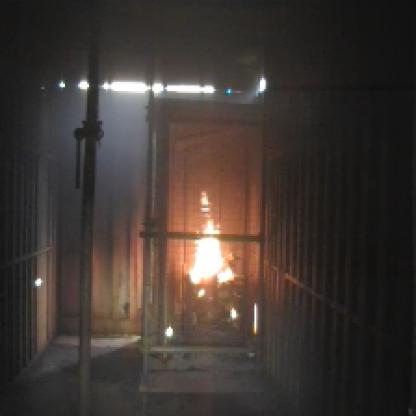Fire: (184, 193, 241, 316)
